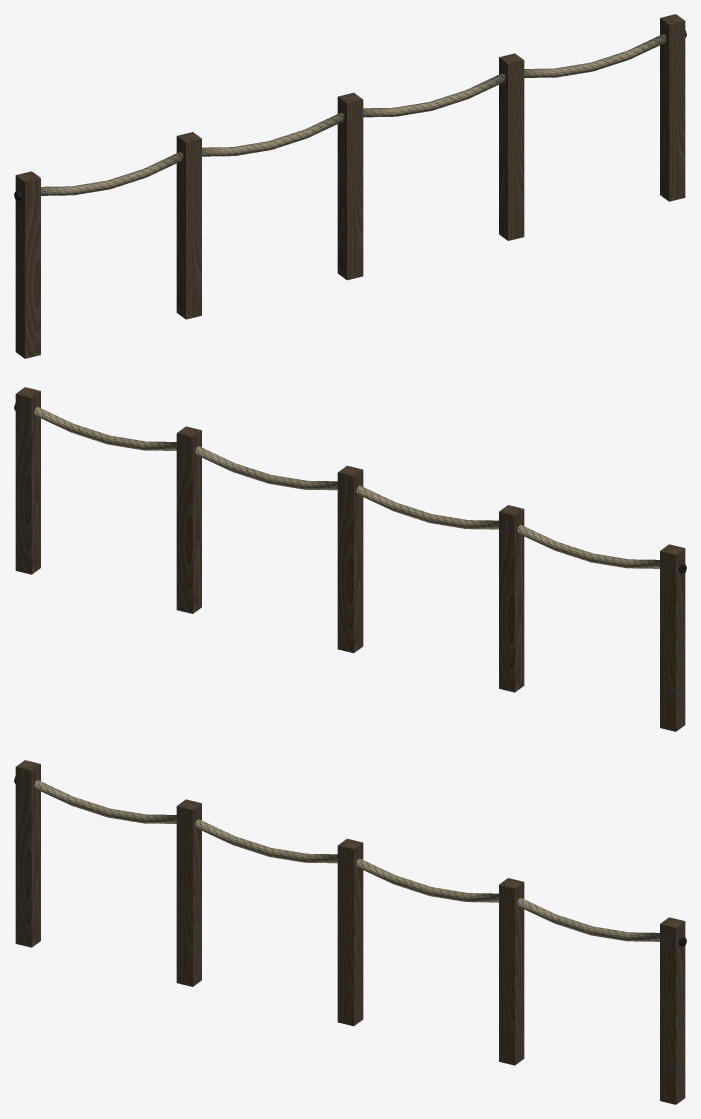
File: rope_fence01.dae
3 renders of one model, top to bottom at view 1: azimuth 30°, elevation 25°; view 2: azimuth 150°, elevation 25°; view 3: azimuth 330°, elevation 25°, orthographic.
Visible parts, largest first — view 1: RopeFence1; view 2: RopeFence1; view 3: RopeFence1.
Boxes of the visible parts, <box> form: RopeFence1: <box>14,14,686,358</box>; RopeFence1: <box>14,387,686,731</box>; RopeFence1: <box>14,760,686,1104</box>.
Bounding box in the file's own units: 4.15 × 0.1 × 1.05.
Materials: 2 (2 with a texture image).
